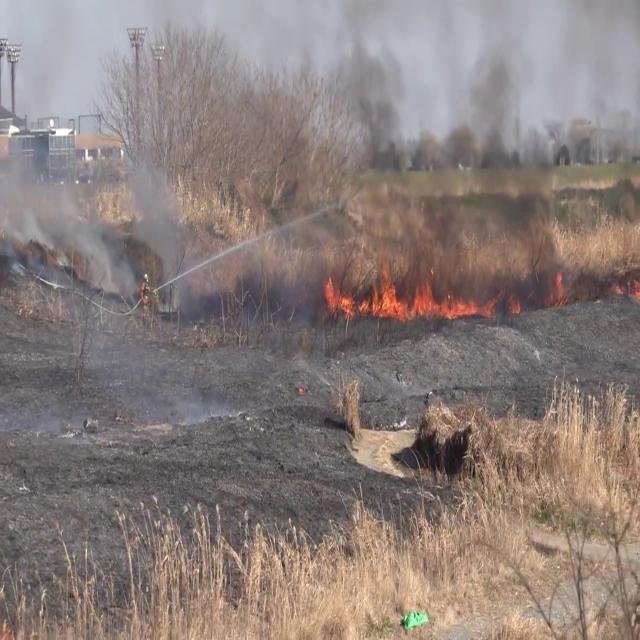Fire: (321, 266, 485, 328), (550, 260, 568, 308)
Smoke: (308, 0, 594, 266), (0, 122, 114, 290), (126, 142, 186, 294)
